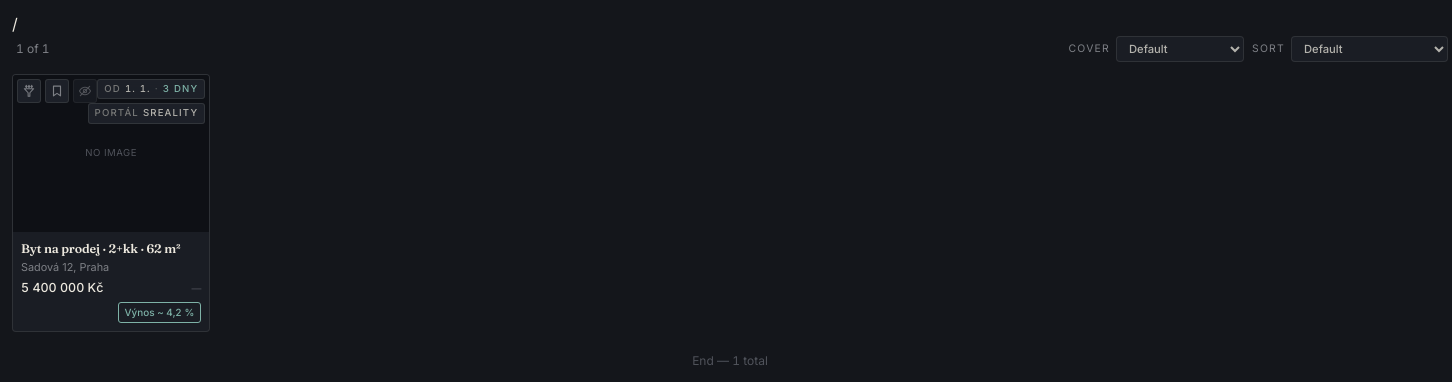
Test: <ListingCards> the card is not a link — its TITLE is › makes a finished estimate a real link to the run surface
What coordinates should you click on to do the following:
click the link "Výnos ~ 4,2 %"
I would click on:
 (159, 313)
Its box is [118,302,201,323].
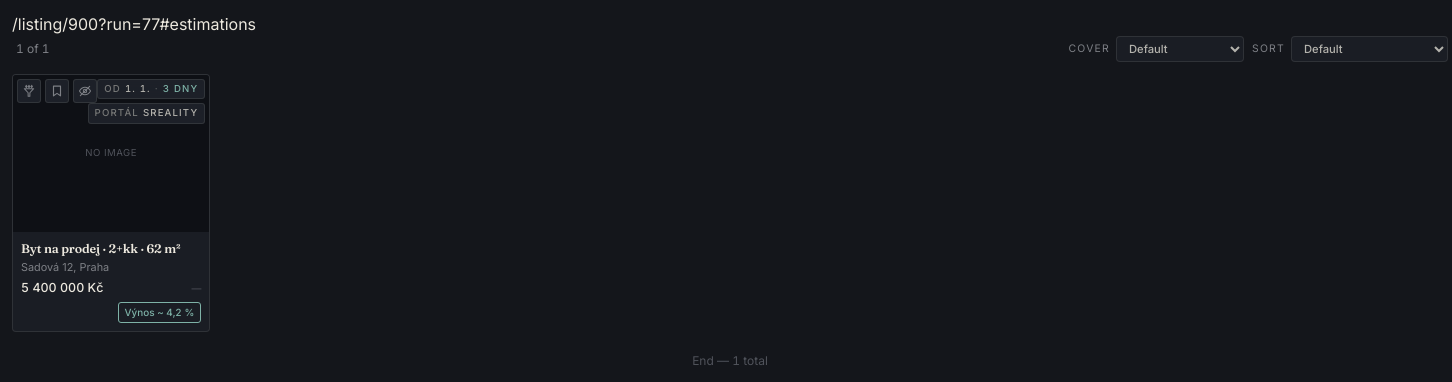
Result: the text with test id "loc" reads "/listing/900?run=77#estimations" at [12,14,256,34]
